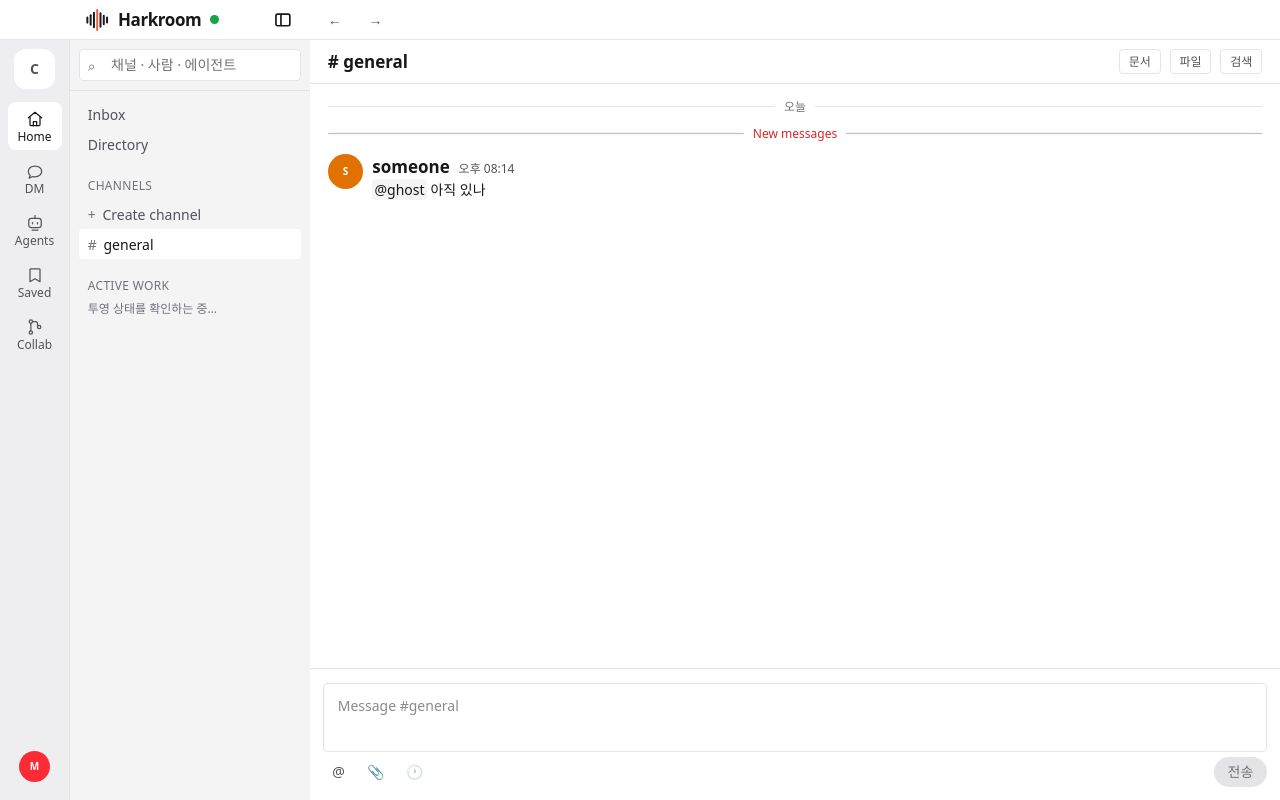
Test: 멘션 클릭 배선 — Workspace 를 통째로 (#279) › 비활성 계정 멘션도 열리고 프로필이 비활성이라고 말한다
The image size is (1280, 800).
Click the button with test id "mention-ghost" at coordinates (400, 190), box [372, 179, 427, 200]
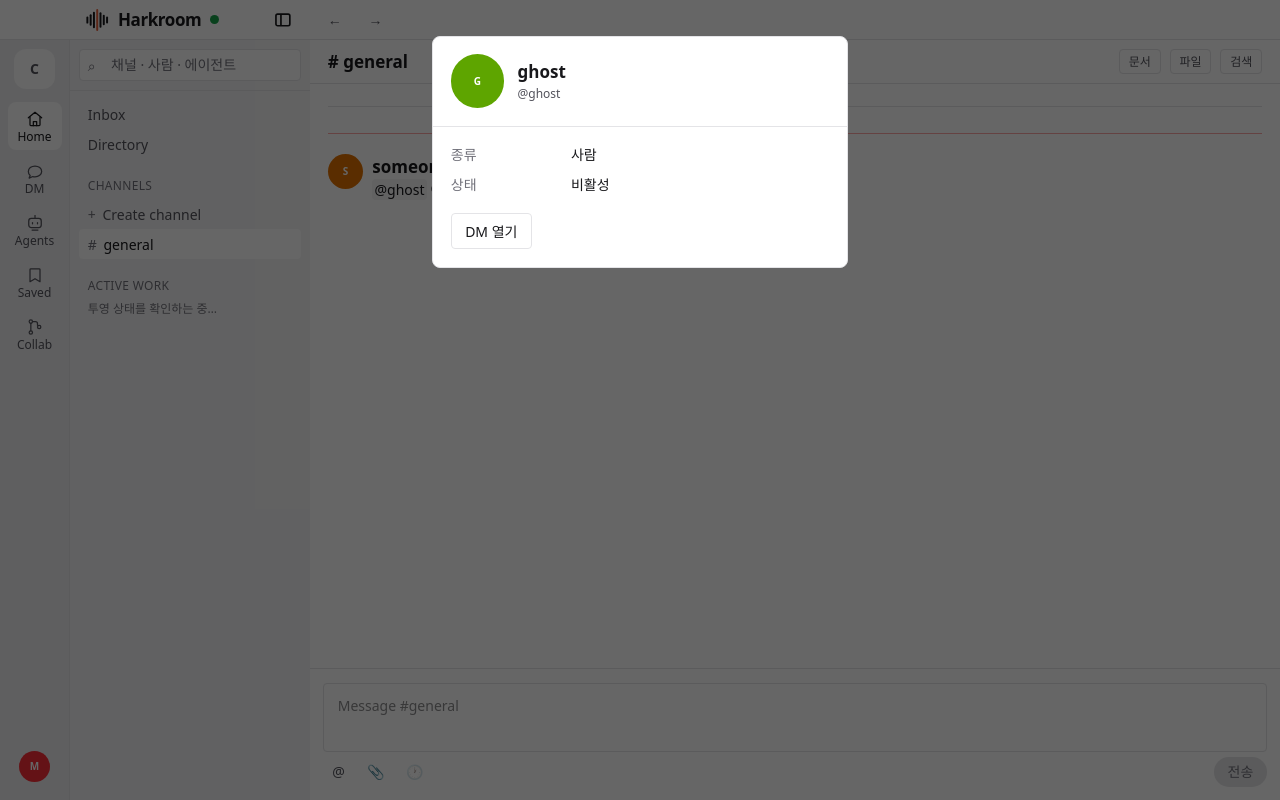
Check: the dialog named "ghost 프로필" shows "비활성", box [571, 175, 610, 194]
